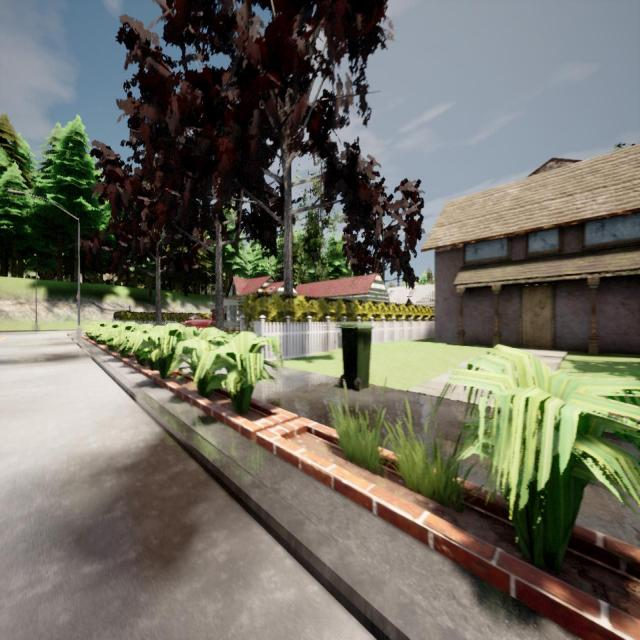Vehicle: (180, 314, 214, 328)
traffic_light: (76, 294, 79, 306)
